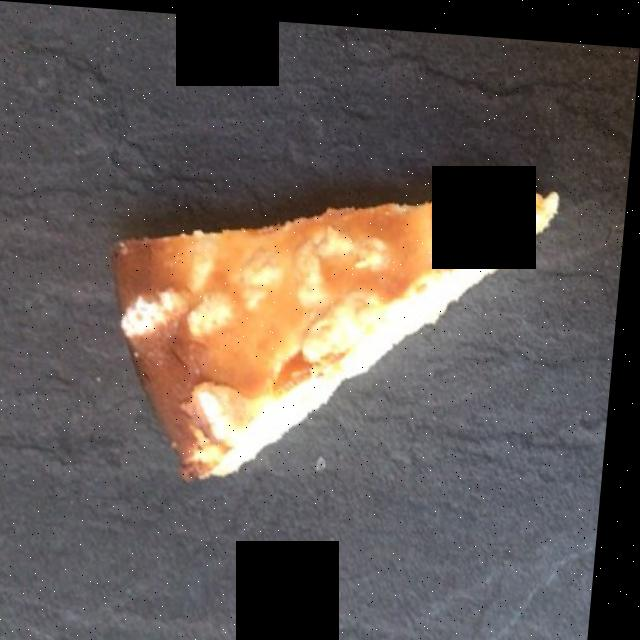fruit-tart: (125, 186, 556, 473)
philadelphia: (162, 175, 552, 441)
